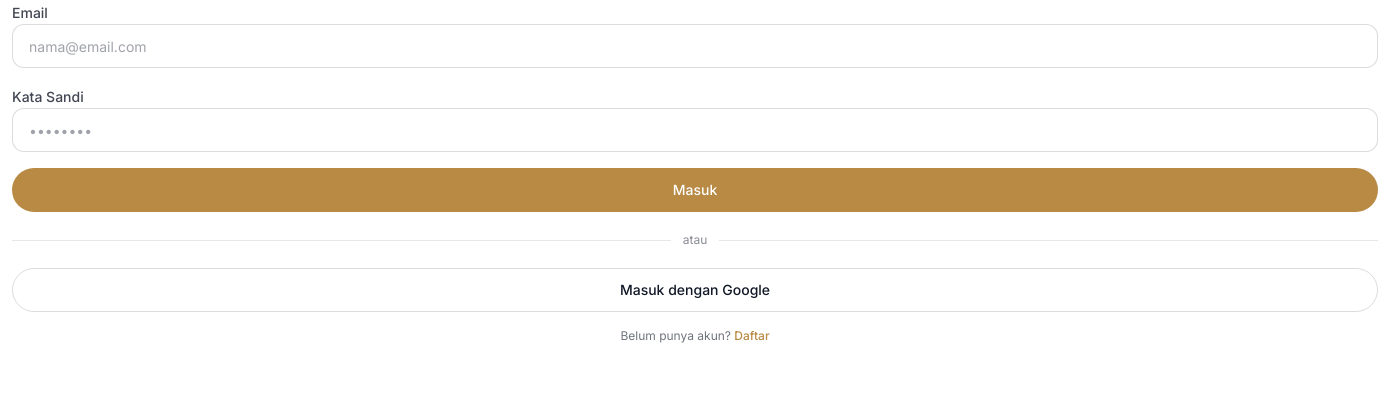
AuthForm login mode › shows validation errors when submitting an empty form
The image size is (1390, 408).
Step 1. Click the button "Masuk" → (695, 190), box x1=12 y1=168 x2=1378 y2=212
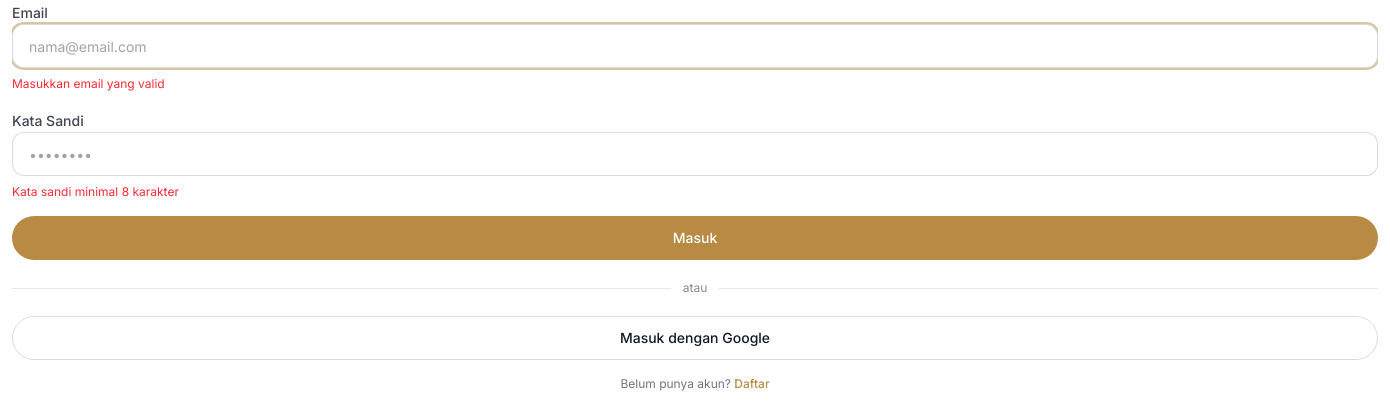
expect the text "Masukkan email yang valid" is shown: met, box x1=12 y1=76 x2=165 y2=91
expect the text "Kata sandi minimal 8 karakter" is shown: met, box x1=12 y1=184 x2=179 y2=199
